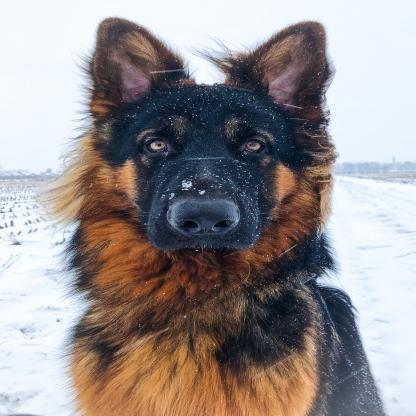dog: (72, 18, 341, 416)
